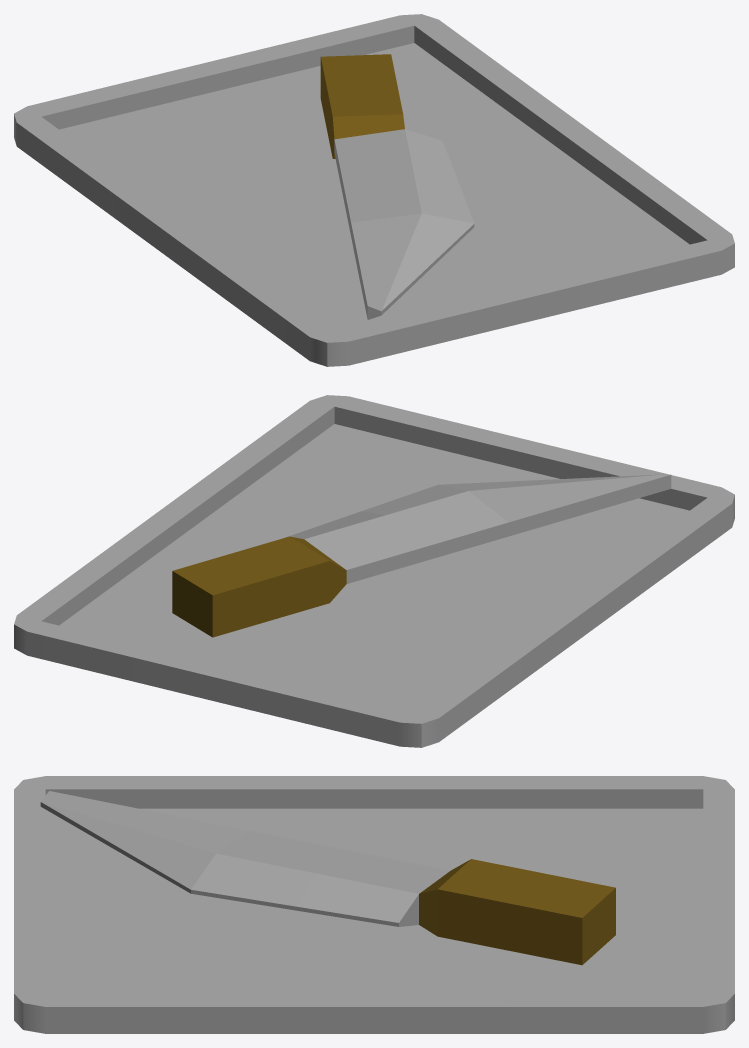
The model's file is board and knife.fbx.
3 renders of one model, top to bottom at view 1: azimuth 30°, elevation 25°; view 2: azimuth 150°, elevation 25°; view 3: azimuth 270°, elevation 25°, orthographic. The views are drawn at different scales.
Visible parts, largest first — view 1: pCube2, pCube1; view 2: pCube2, pCube1; view 3: pCube2, pCube1.
Part boxes in pixels (left/top/right/bottom): pCube2: left=14, top=14, right=734, bottom=366; pCube1: left=320, top=54, right=474, bottom=319; pCube2: left=14, top=395, right=734, bottom=747; pCube1: left=172, top=474, right=671, bottom=637; pCube2: left=14, top=776, right=734, bottom=1033; pCube1: left=40, top=791, right=615, bottom=965.
Size of the model in its own units: 75.8 by 9.23 by 100.
